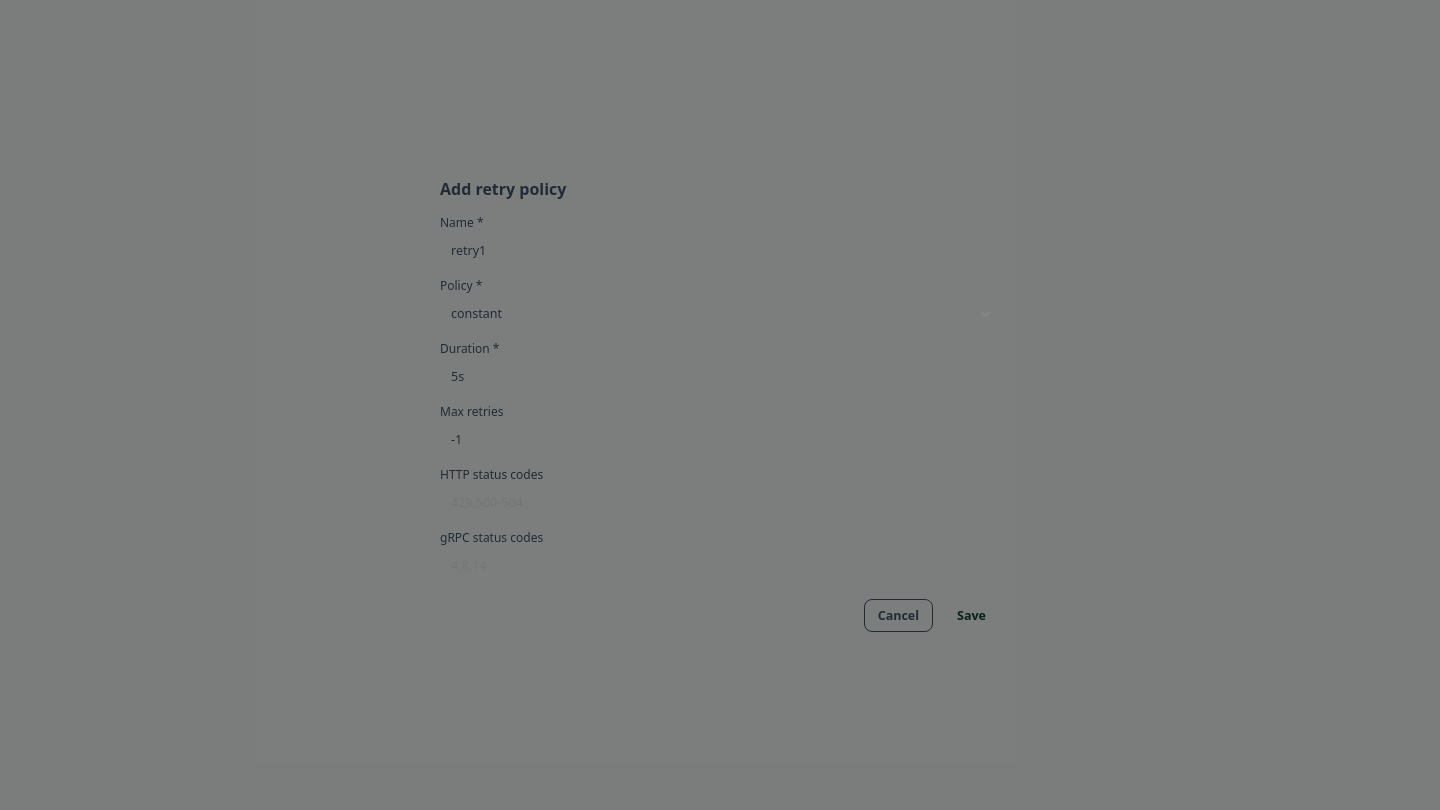
RetryDialog reserved DaprBuiltIn prefix › rejects a custom retry named with the DaprBuiltIn prefix
Replace the text in the field named "retry name" with "DaprBuiltInFoo" at (731, 250), box left=440, top=235, right=1022, bottom=266
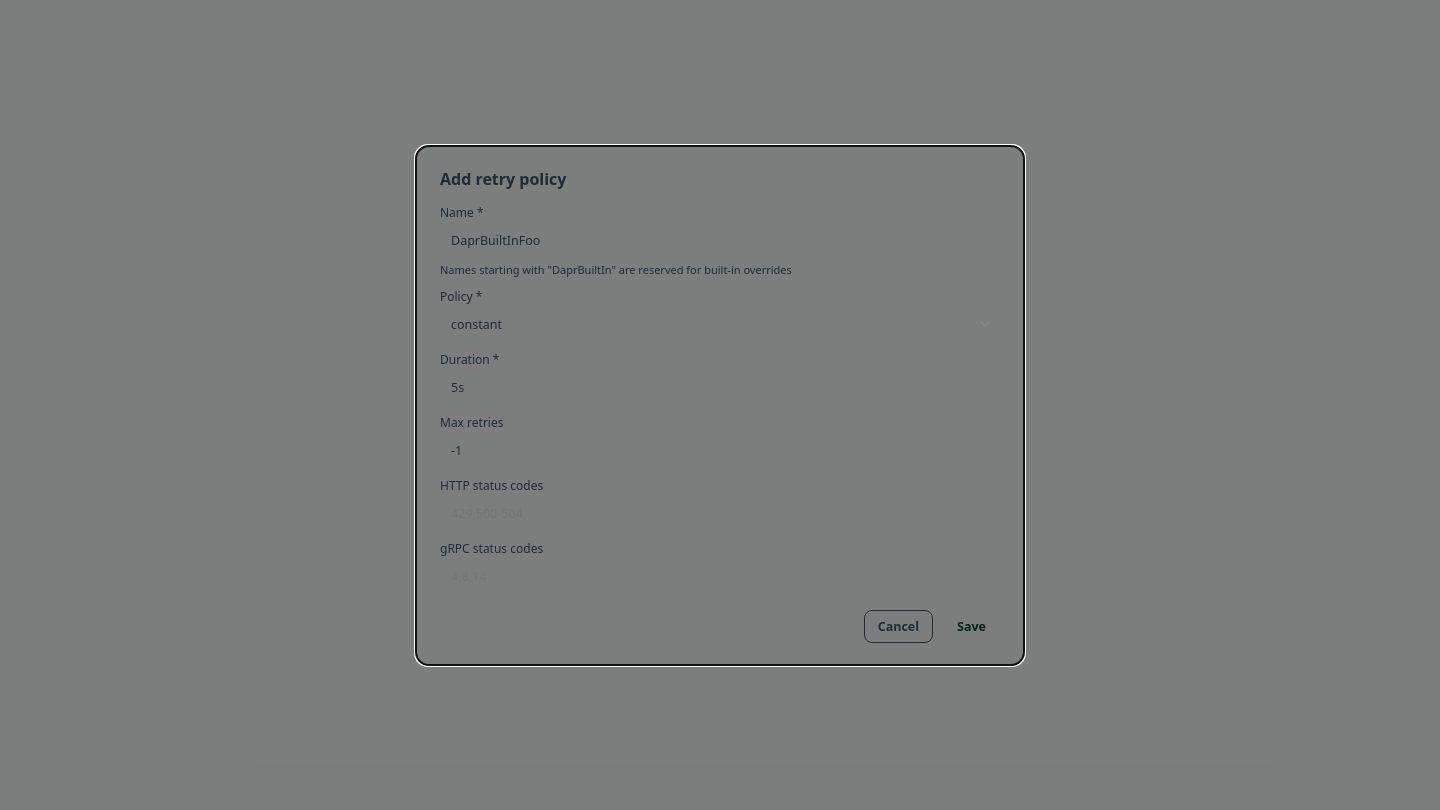
Expected: the text "reserved" is shown, left=440, top=262, right=792, bottom=276
Expected: the button "Save" is disabled, left=943, top=610, right=1000, bottom=642
